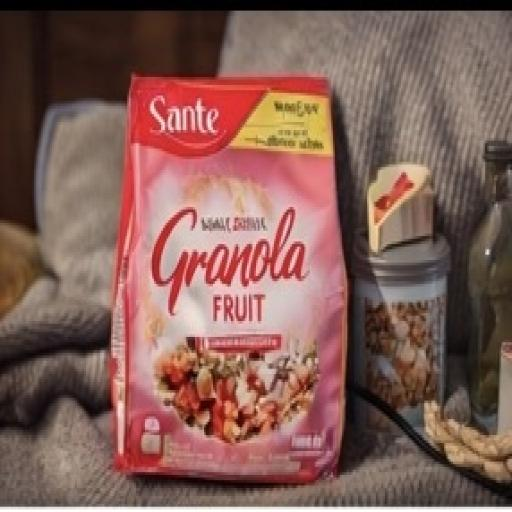granola: (86, 44, 401, 512)
